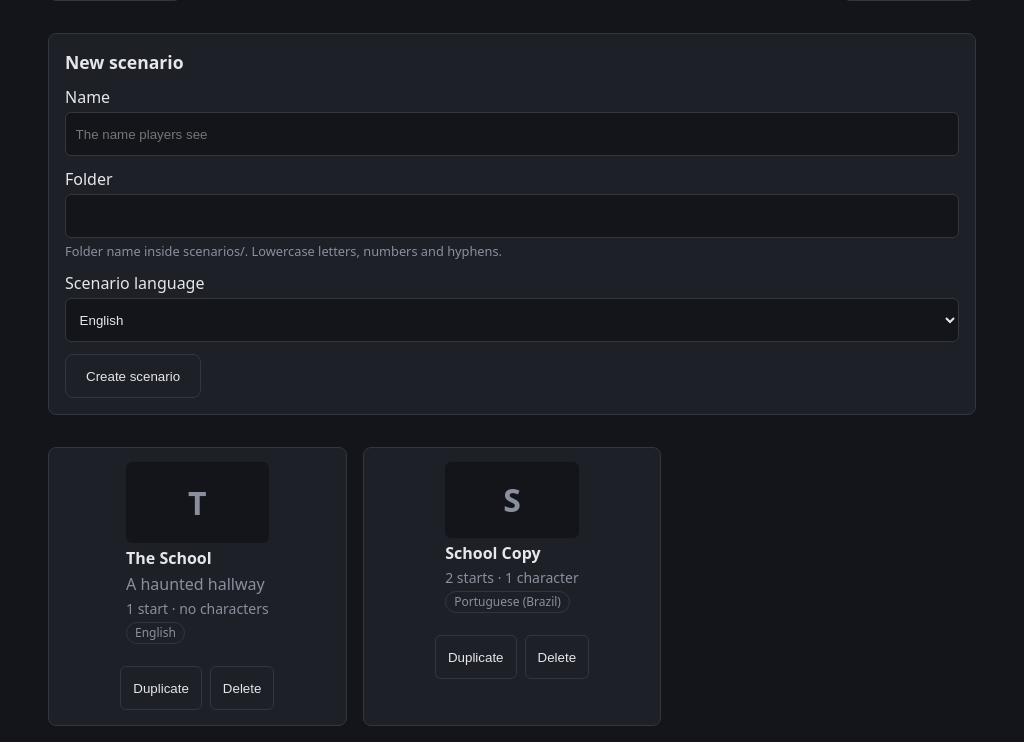
Test: BuilderListScreen — duplicate › pre-fills {folder}-copy deduplicated against the loaded list and inserts the new card on success
(page scrolled)
Check: the text "The School" is shown, box [126,547,212,569]
Click the button "Duplicate" below "The School": (161, 688) [120,666,202,710]
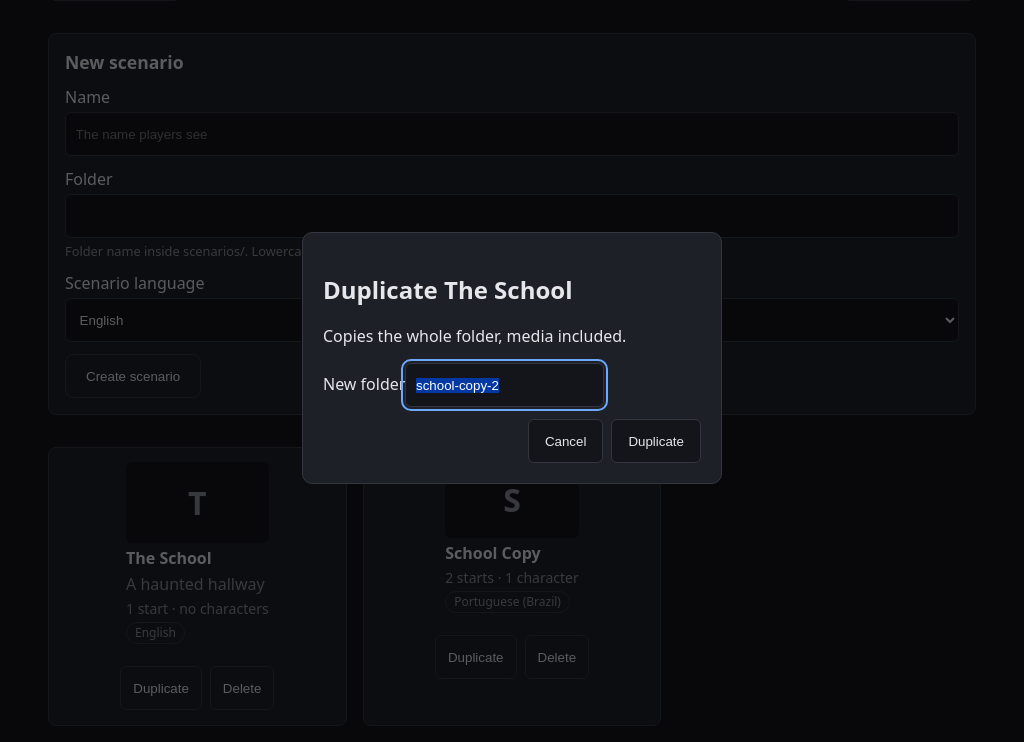
Click the button "Duplicate" below "New folder": (656, 441) [611,419,701,463]
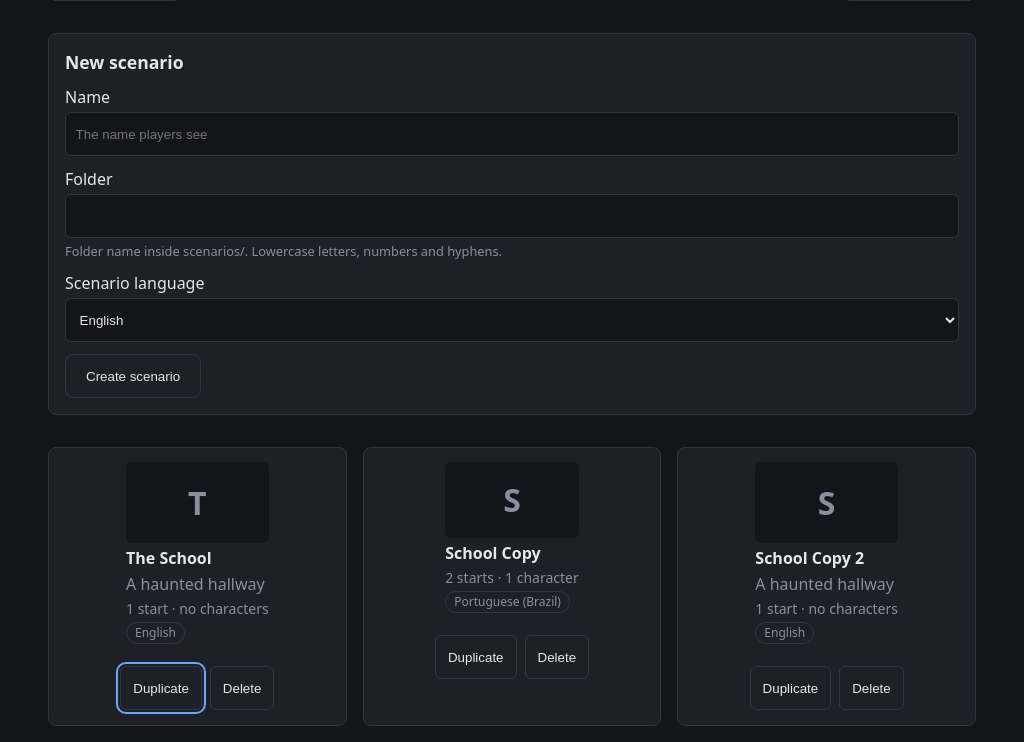
Check: the text "School Copy 2" is shown, box [755,547,864,569]
